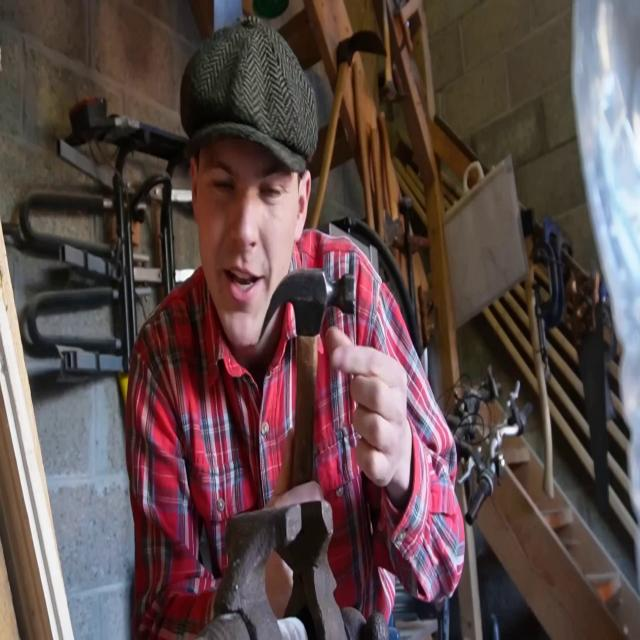hammer: (257, 268, 357, 490)
